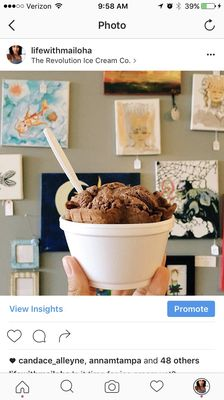salad: (43, 125, 85, 194)
sushi: (58, 215, 173, 291)
